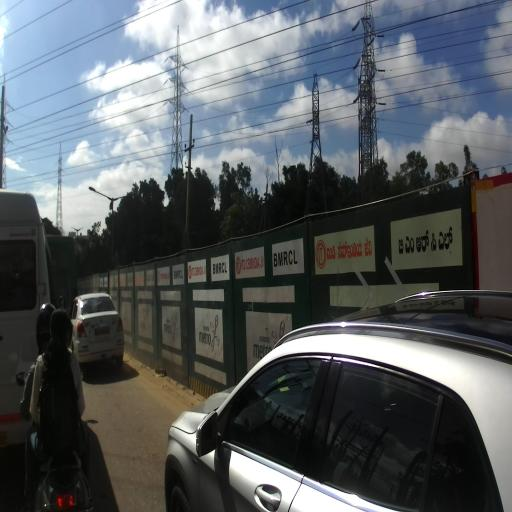street_light_0: (88, 184, 115, 208), (110, 193, 136, 209), (71, 226, 78, 232), (77, 227, 84, 233)
